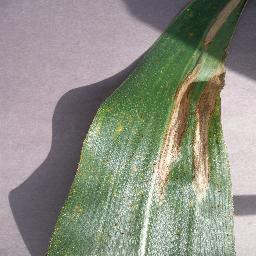Corn_Blight: (170, 53, 232, 118), (200, 0, 249, 53), (162, 119, 229, 151), (181, 151, 216, 206), (74, 115, 96, 174), (155, 152, 174, 195), (112, 118, 131, 135), (185, 28, 196, 41), (75, 207, 87, 218)
